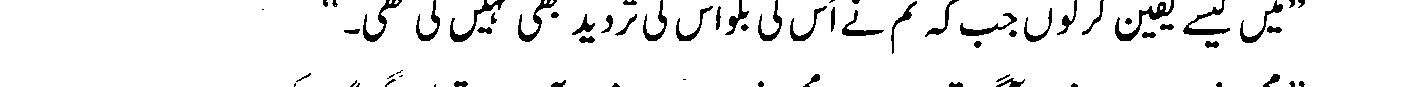bay_shosha: (957, 20, 999, 47), (737, 7, 750, 31)
